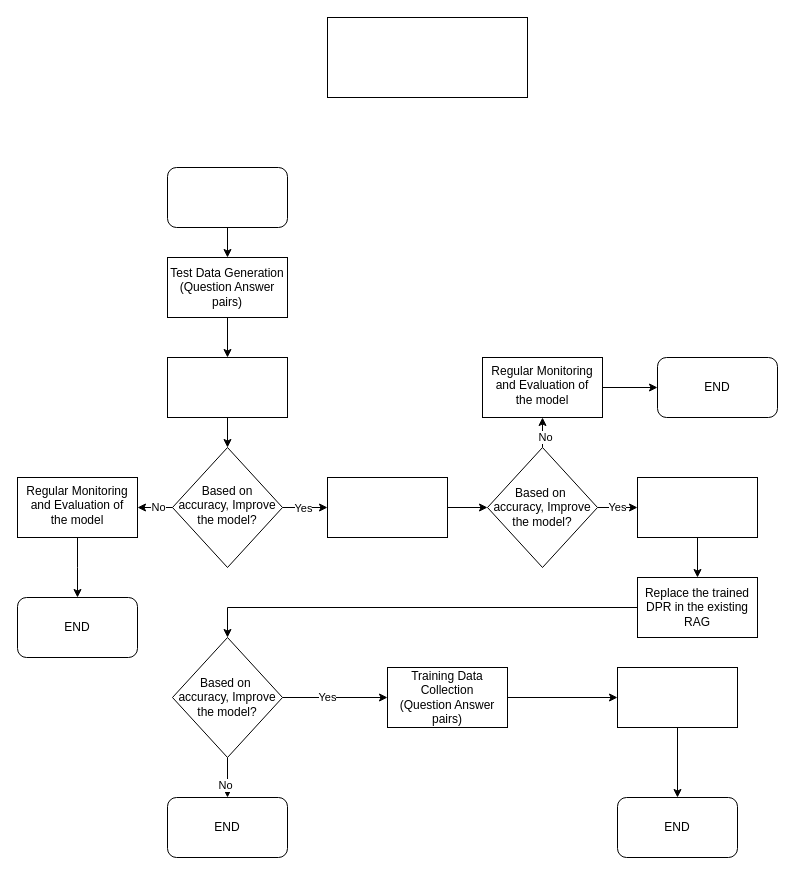
The diagram is 795 pixels wide and 875 high, and some of its shapes have lost their labels. The shapes that lost their labels are listed below. From the top down, each one's centre as x and y in pixels, then its label:
point 427,57: MEDCALLZ ML Model Building And Testing Flowchart
point 227,197: START
point 227,387: Existing RAG Model Evaluation On Our Test Data
point 387,507: Replace the BART with good instruct tuned latest LLM
point 697,507: Train the DPR with our documents
point 677,697: Finetune a LLM
